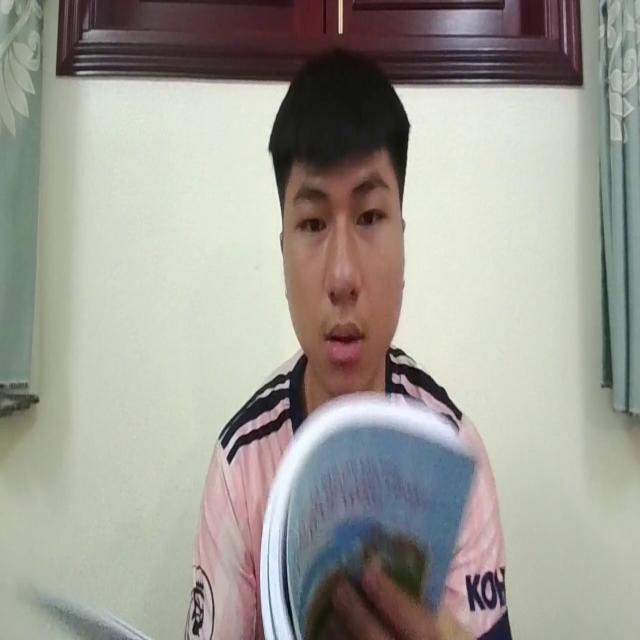book: (259, 379, 479, 640)
student: (186, 39, 513, 640)
